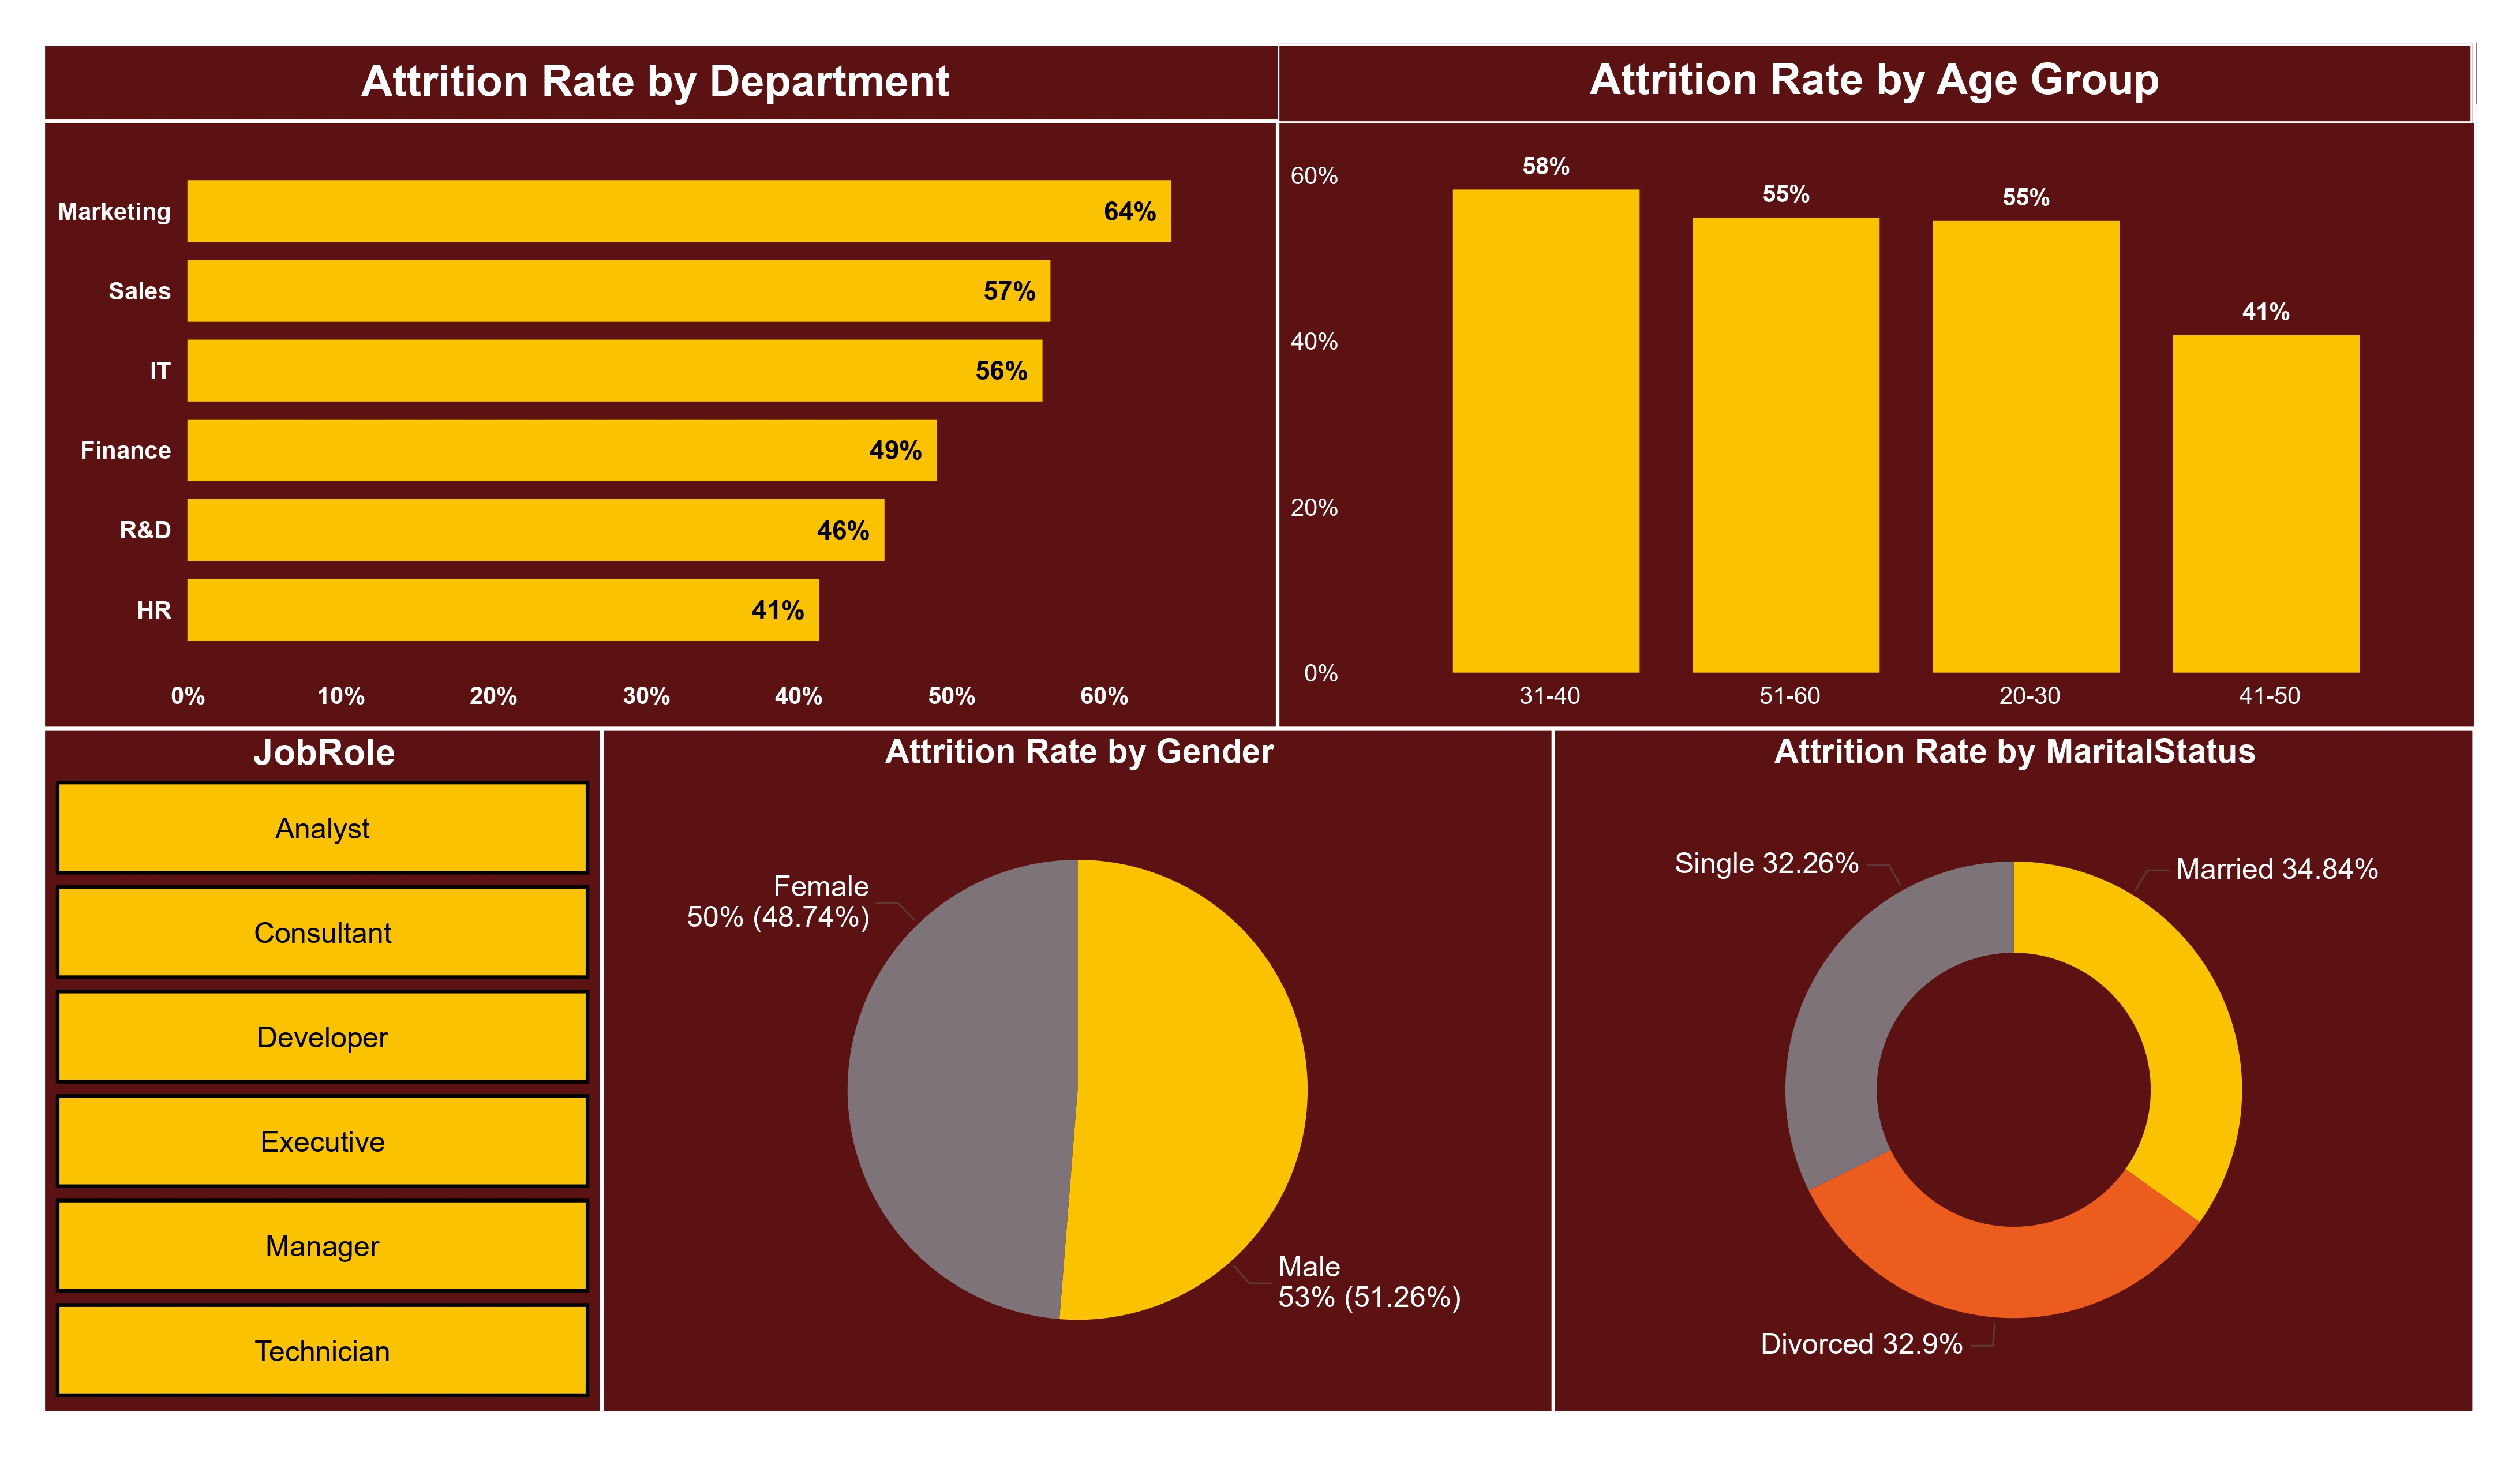

This screenshot's page, from the dashboard's own definition file:
{"tool":"powerbi","page":{"name":"Page 1","canvas":[1350,760],"ordinal":0},"visuals":[{"type":"barChart","fields":{"Category":["HR employee dataset.Department"],"Y":["HR employee dataset.Attrition Rate"]},"box":[0,42.6,684.9,337.9],"z":0},{"type":"textbox","box":[0,0,685.6,43.4],"z":1000},{"type":"columnChart","fields":{"Y":["HR employee dataset.Attrition Rate"],"Category":["HR employee dataset.Age Group"]},"box":[684.9,42.6,665.1,337.9],"z":2000},{"type":"textbox","box":[684.9,0,663.6,44.1],"z":3000},{"type":"listSlicer","fields":{"Values":["HR employee dataset.JobRole"]},"box":[0,380,310.2,380],"z":4000},{"type":"pieChart","fields":{"Category":["HR employee dataset.Gender"],"Y":["HR employee dataset.Attrition Rate"]},"box":[310.2,380,527.3,380],"z":5000},{"type":"donutChart","fields":{"Category":["HR employee dataset.MaritalStatus"],"Y":["HR employee dataset.Attrition Rate"]},"box":[837.6,380,511.8,380],"z":6000}]}

Visuals, with their boxes on the page's 1350x760 design canvas (x1, y1, x2, y2). These are canvas units, not pixel positions in the 2520x1457 screenshot, which may show the page scaled, cropped or inside an application window:
barChart - HR employee dataset.Department x HR employee dataset.Attrition Rate: region(0, 43, 685, 380)
textbox: region(0, 0, 686, 43)
columnChart - HR employee dataset.Attrition Rate x HR employee dataset.Age Group: region(685, 43, 1350, 380)
textbox: region(685, 0, 1348, 44)
listSlicer - HR employee dataset.JobRole: region(0, 380, 310, 760)
pieChart - HR employee dataset.Gender x HR employee dataset.Attrition Rate: region(310, 380, 838, 760)
donutChart - HR employee dataset.MaritalStatus x HR employee dataset.Attrition Rate: region(838, 380, 1349, 760)
